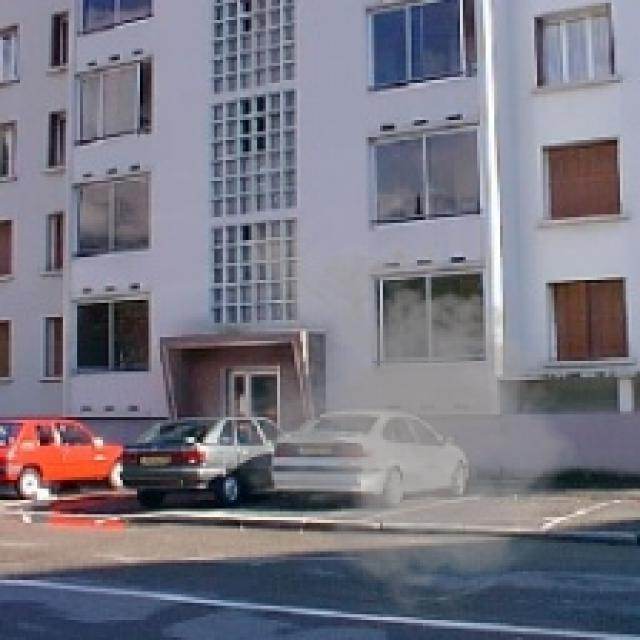Smoke: (177, 220, 592, 614)
